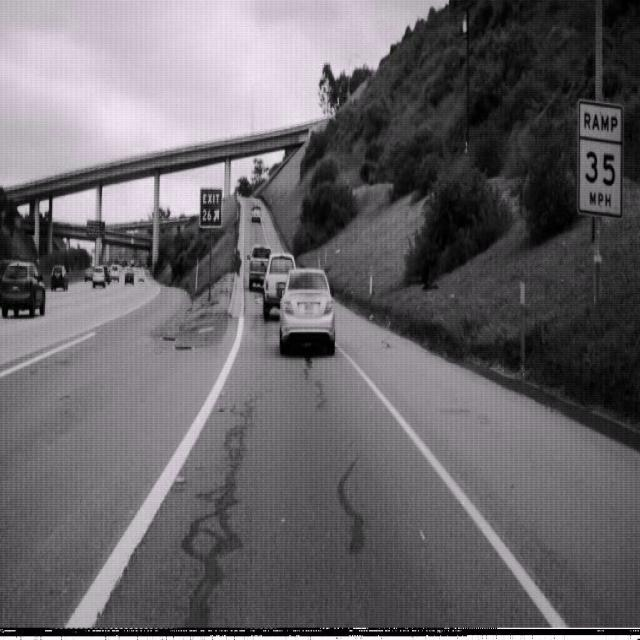speedLimit35: (576, 97, 624, 222)
